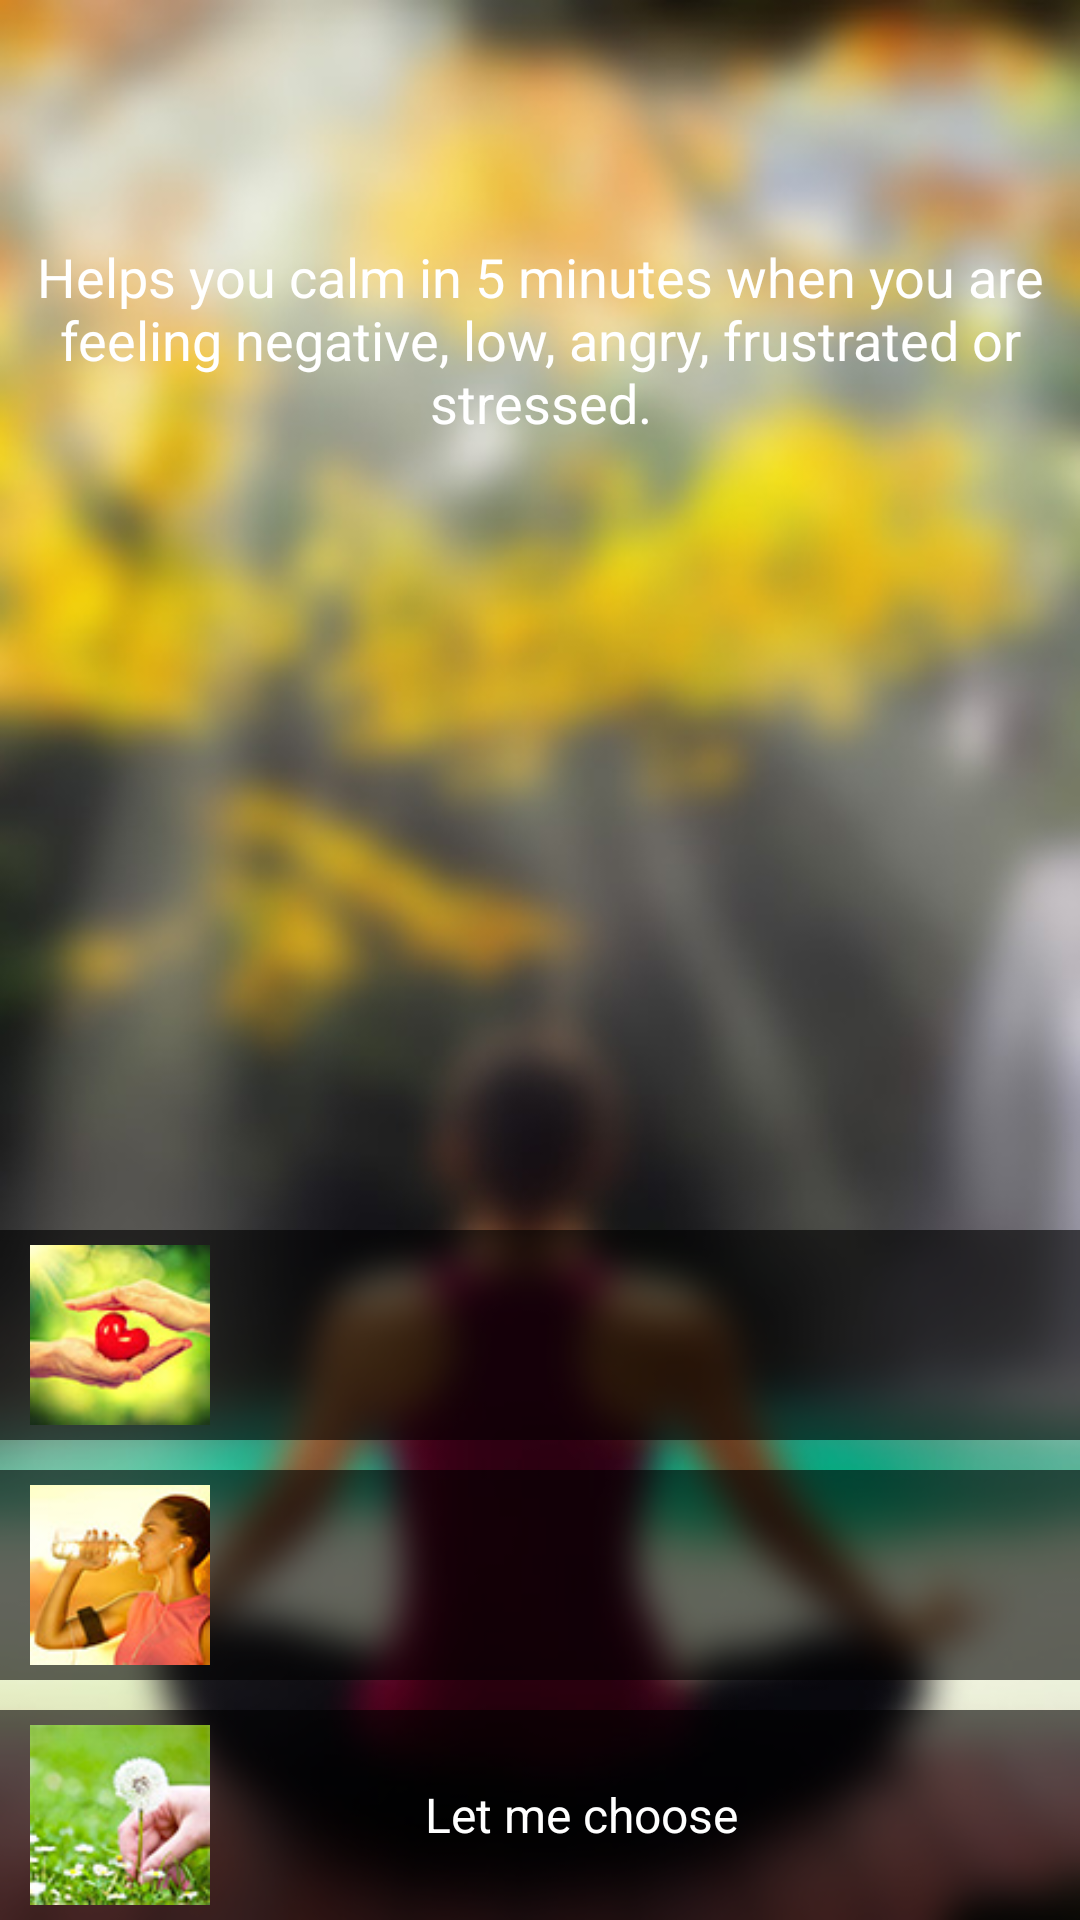

Icon click points for this 1080px×1920px phone screenshot, format point (x, y):
self compassion: point (120, 1335)
